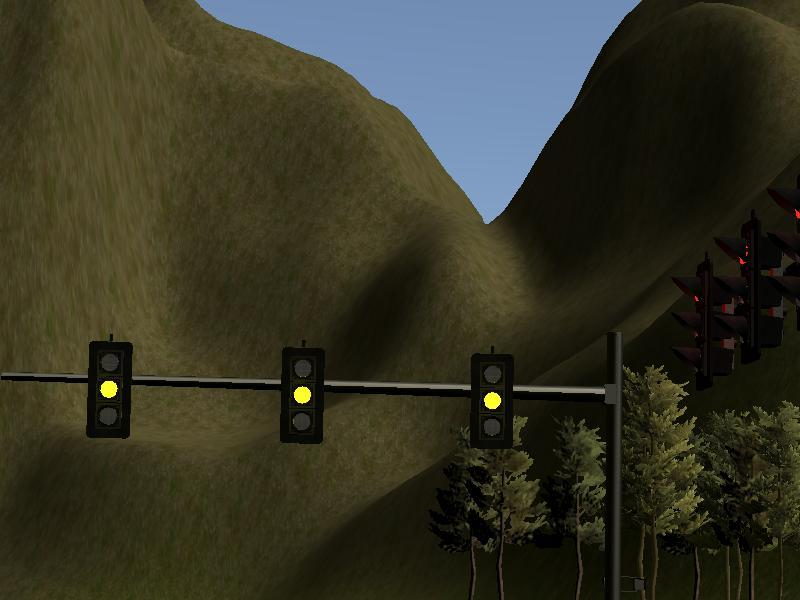Yellow: (469, 355, 514, 446), (87, 342, 130, 437), (281, 349, 324, 443)
